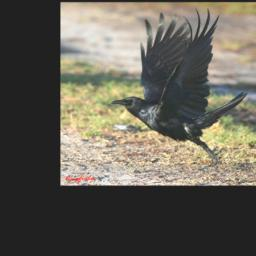Crow: (110, 6, 248, 167)
